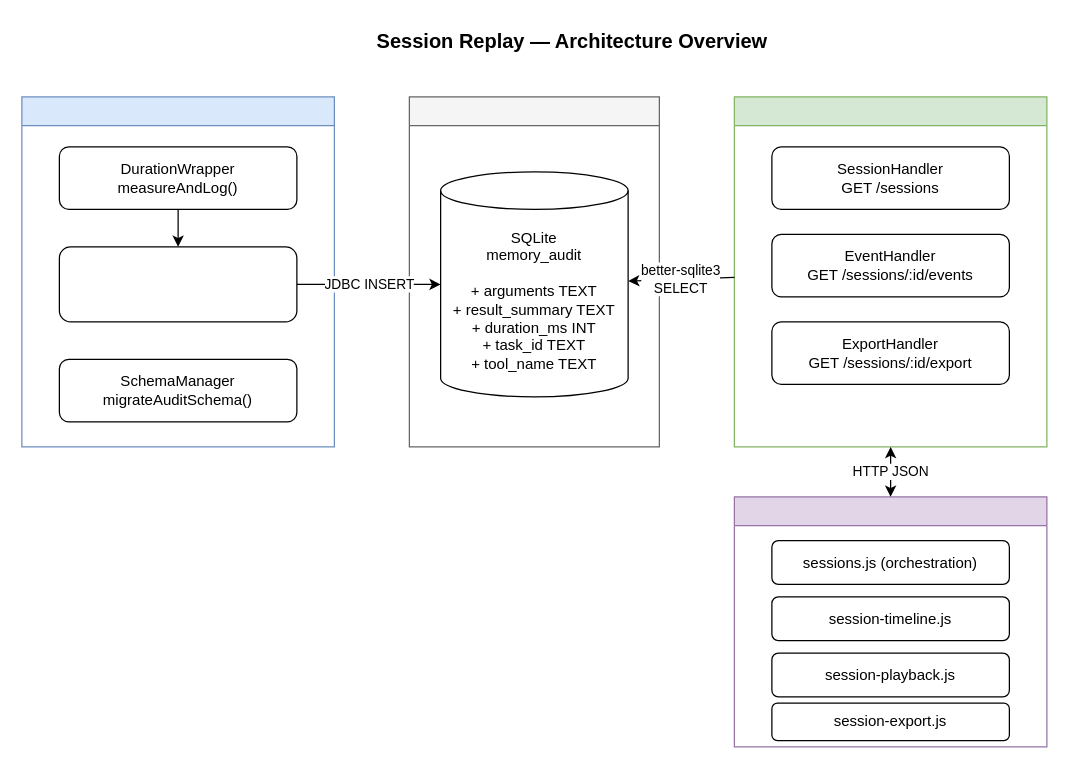
This 1069x769 diagram has some shape labels left out. Here are the shapes that lost their labels. From the top down, the box of each, then its label:
(21, 96, 334, 447): Write Layer (Kotlin)
(58, 246, 297, 322): AuditRepository log(operation, args, result, duration, task)
(408, 96, 659, 447): Storage Layer
(733, 96, 1047, 447): Read Layer (Node.js)
(733, 496, 1047, 747): Presentation Layer (Viewer)
